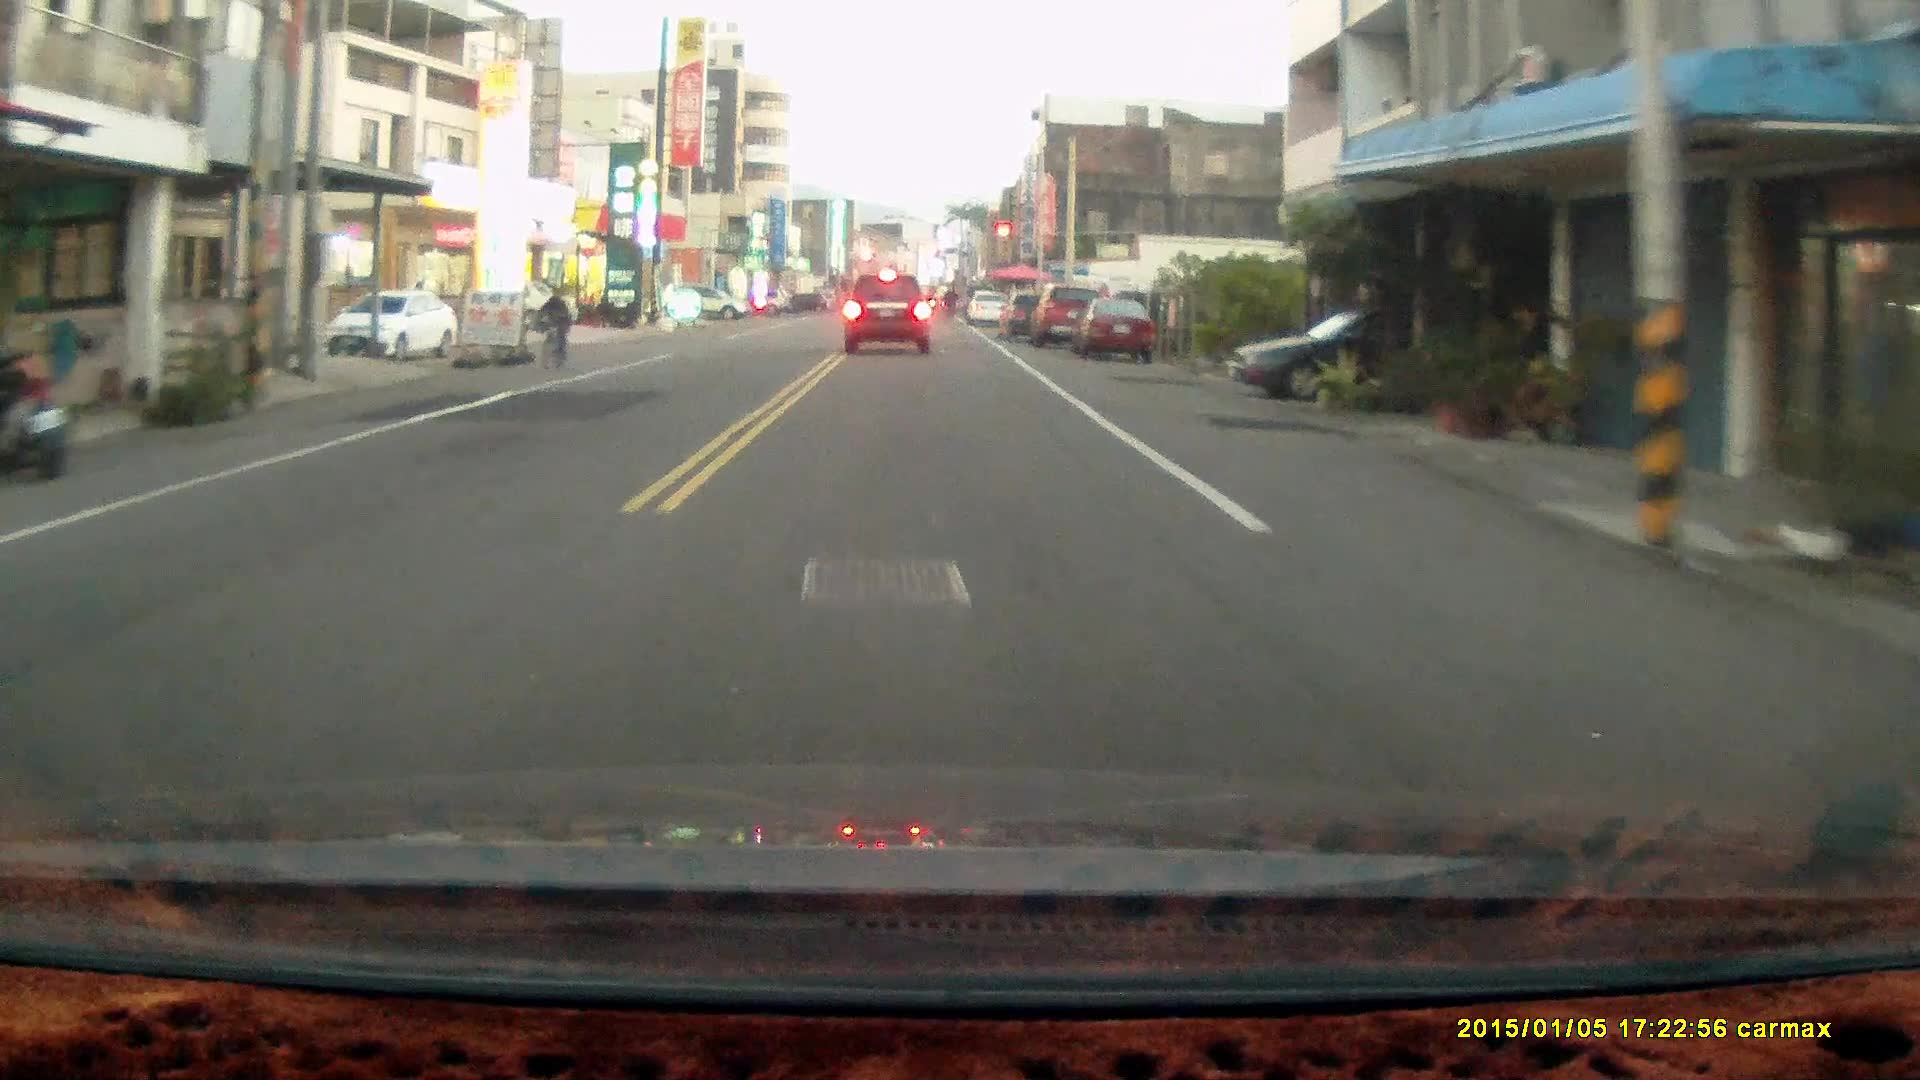rider: (538, 284, 568, 374)
vehicle: (1225, 316, 1479, 400), (325, 292, 457, 364), (841, 276, 937, 361), (454, 282, 582, 339), (1072, 297, 1157, 366), (664, 284, 749, 323)
